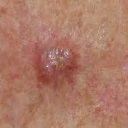Carcinoma: (32, 44, 82, 86)
